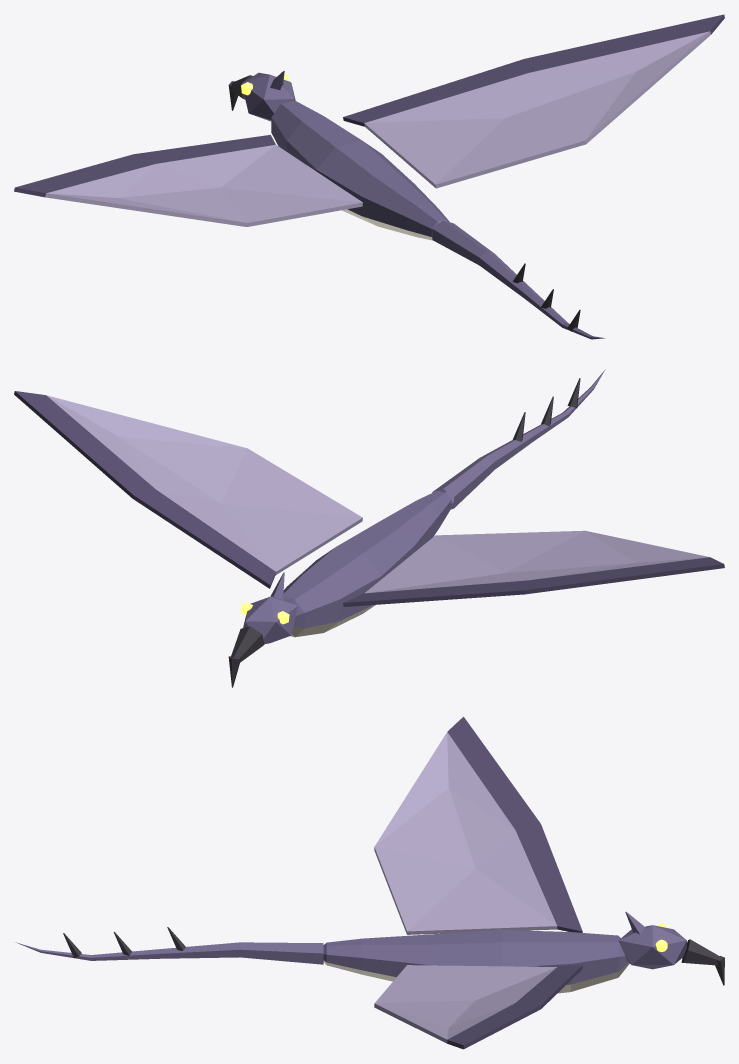
File: razorkite.glb
The picture shows the model from 3 angles, top to bottom: view 1: azimuth 30°, elevation 25°; view 2: azimuth 150°, elevation 25°; view 3: azimuth 270°, elevation 25°; orthographic projection. The views are drawn at different scales.
Parts seen in each view (by area): view 1: wingR, wingL, body, tail, head; view 2: wingR, wingL, body, tail, head; view 3: wingL, body, wingR, tail, head.
Part boxes in pixels (box(x1,y1,x2,y2)): wingR: box(343, 14, 724, 188); wingL: box(14, 135, 362, 226); body: box(271, 100, 449, 240); tail: box(432, 220, 605, 339); head: box(228, 71, 295, 121); wingR: box(14, 391, 362, 588); wingL: box(343, 530, 724, 606); body: box(283, 490, 451, 637); tail: box(432, 369, 605, 509); head: box(228, 572, 298, 687); wingL: box(374, 716, 582, 934); body: box(323, 930, 629, 993); wingR: box(374, 965, 582, 1049); tail: box(16, 927, 323, 964); head: box(618, 911, 724, 985).
Bounding box in the file's own units: 2.62 × 0.4167 × 2.39.
